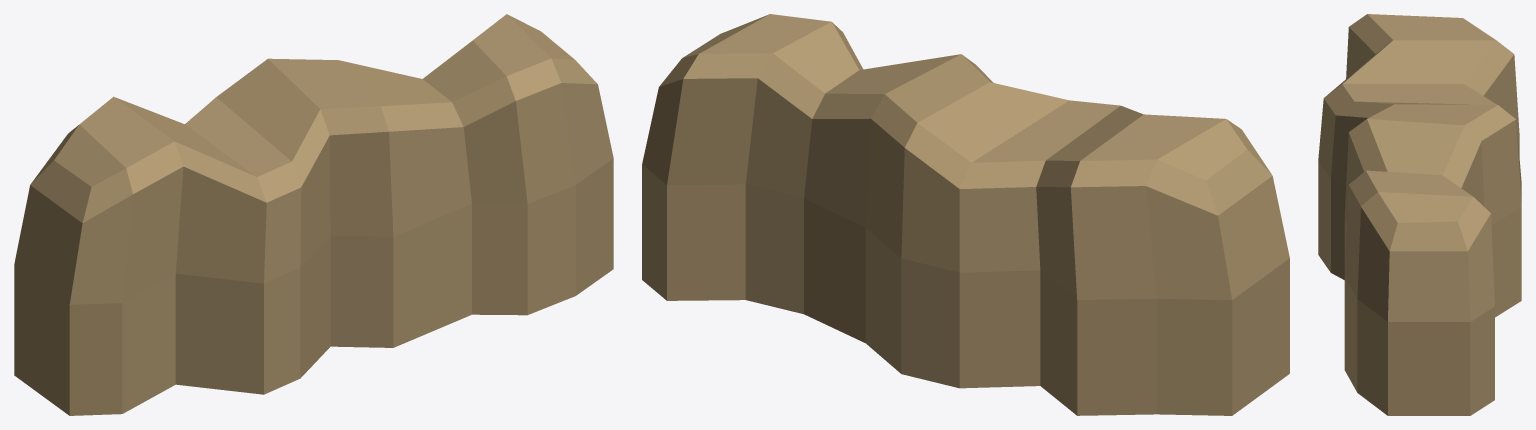
File: Cliff_003.gltf
3 views of the same model, side by side, from view 1: azimuth 30°, elevation 25°; view 2: azimuth 150°, elevation 25°; view 3: azimuth 270°, elevation 25° (orthographic). The views are drawn at different scales.
Parts seen in each view (by area): view 1: Cliff.003-col; view 2: Cliff.003-col; view 3: Cliff.003-col.
Part boxes in pixels (x1,y1,x2,y2): Cliff.003-col: (14,14,613,415); Cliff.003-col: (642,14,1289,415); Cliff.003-col: (1318,14,1521,415).
Bounding box in the file's own units: 15.91 × 6.31 × 5.94.
